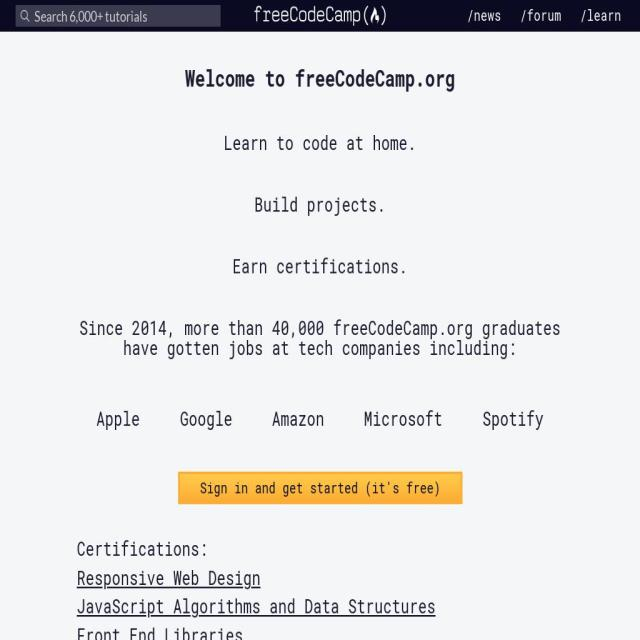button: (76, 566, 555, 588), (76, 596, 555, 616), (178, 471, 462, 504), (76, 625, 555, 640), (254, 0, 386, 32), (511, 0, 571, 32), (571, 0, 631, 32), (458, 0, 512, 32), (19, 7, 32, 25)
field: (16, 5, 220, 27)
heading: (76, 317, 564, 358), (76, 65, 564, 90), (76, 132, 564, 154), (76, 566, 555, 588), (76, 194, 564, 215), (76, 256, 564, 276), (76, 538, 564, 558), (76, 596, 555, 616), (76, 625, 555, 640), (364, 408, 443, 438), (482, 408, 544, 438), (180, 408, 232, 438), (272, 408, 324, 438), (96, 408, 141, 438)
image: (254, 6, 386, 26), (21, 10, 30, 22)
